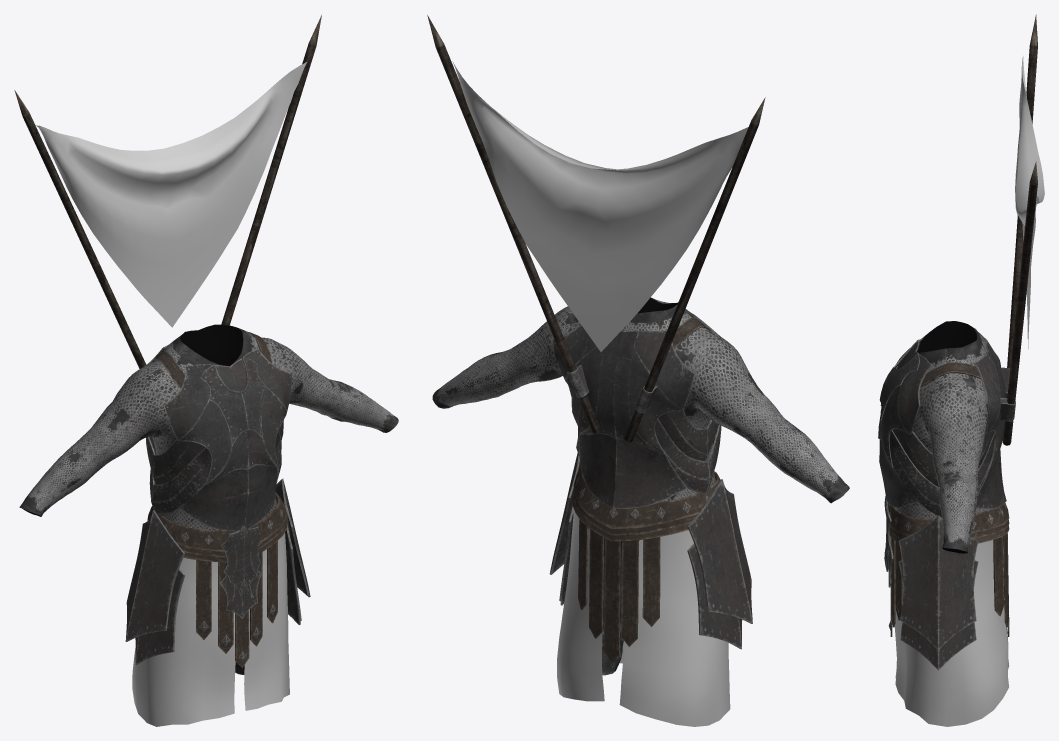
Rendered from sk_uruk_mordor_chainmail_captain_c2.fbx.
The picture shows the model from 3 angles, left to right: view 1: azimuth 30°, elevation 25°; view 2: azimuth 150°, elevation 25°; view 3: azimuth 270°, elevation 25°; orthographic projection. The views are drawn at different scales.
Visible parts, largest first — view 1: sk_uruk_mordor_chainmail_captain_c2.2, sk_uruk_mordor_chainmail_captain_c2.4, sk_uruk_mordor_chainmail_captain_c2.0, sk_uruk_mordor_chainmail_captain_c2.1, sk_uruk_mordor_chainmail_captain_c2.3; view 2: sk_uruk_mordor_chainmail_captain_c2.2, sk_uruk_mordor_chainmail_captain_c2.4, sk_uruk_mordor_chainmail_captain_c2.1, sk_uruk_mordor_chainmail_captain_c2.0; view 3: sk_uruk_mordor_chainmail_captain_c2.4, sk_uruk_mordor_chainmail_captain_c2.2, sk_uruk_mordor_chainmail_captain_c2.0, sk_uruk_mordor_chainmail_captain_c2.1, sk_uruk_mordor_chainmail_captain_c2.3.
Boxes of the visible parts, x1=… form: sk_uruk_mordor_chainmail_captain_c2.2: x1=36, y1=62, x2=306, y2=726; sk_uruk_mordor_chainmail_captain_c2.4: x1=125, y1=345, x2=310, y2=664; sk_uruk_mordor_chainmail_captain_c2.0: x1=19, y1=324, x2=398, y2=674; sk_uruk_mordor_chainmail_captain_c2.1: x1=14, y1=15, x2=321, y2=667; sk_uruk_mordor_chainmail_captain_c2.3: x1=219, y1=525, x2=262, y2=618; sk_uruk_mordor_chainmail_captain_c2.2: x1=452, y1=61, x2=748, y2=726; sk_uruk_mordor_chainmail_captain_c2.4: x1=549, y1=297, x2=752, y2=649; sk_uruk_mordor_chainmail_captain_c2.1: x1=427, y1=15, x2=765, y2=662; sk_uruk_mordor_chainmail_captain_c2.0: x1=432, y1=297, x2=849, y2=675; sk_uruk_mordor_chainmail_captain_c2.4: x1=878, y1=328, x2=1006, y2=670; sk_uruk_mordor_chainmail_captain_c2.2: x1=894, y1=56, x2=1044, y2=726; sk_uruk_mordor_chainmail_captain_c2.0: x1=896, y1=321, x2=988, y2=553; sk_uruk_mordor_chainmail_captain_c2.1: x1=888, y1=14, x2=1037, y2=636; sk_uruk_mordor_chainmail_captain_c2.3: x1=884, y1=496, x2=893, y2=587.
Size of the model in its own units: 1.37 by 0.5419 by 2.18.
